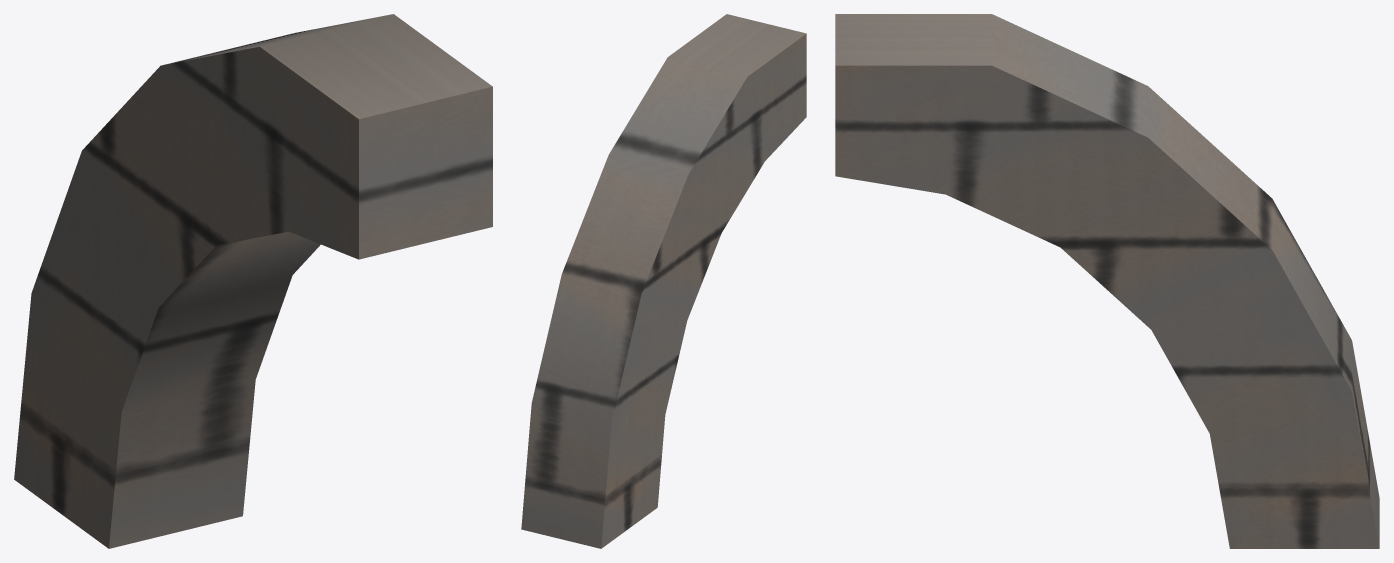
Rendered from BrokenBridgeArch.fbx.
3 views of the same model, side by side, from view 1: azimuth 30°, elevation 25°; view 2: azimuth 150°, elevation 25°; view 3: azimuth 270°, elevation 25° (orthographic). The views are drawn at different scales.
Parts seen in each view (by area): view 1: polySurface25; view 2: polySurface25; view 3: polySurface25.
Boxes of the visible parts, left/top/right/bottom form: polySurface25: left=14, top=14, right=492, bottom=548; polySurface25: left=521, top=14, right=806, bottom=548; polySurface25: left=835, top=14, right=1379, bottom=548.
Size of the model in its own units: 0.2227 by 0.9725 by 0.992.
